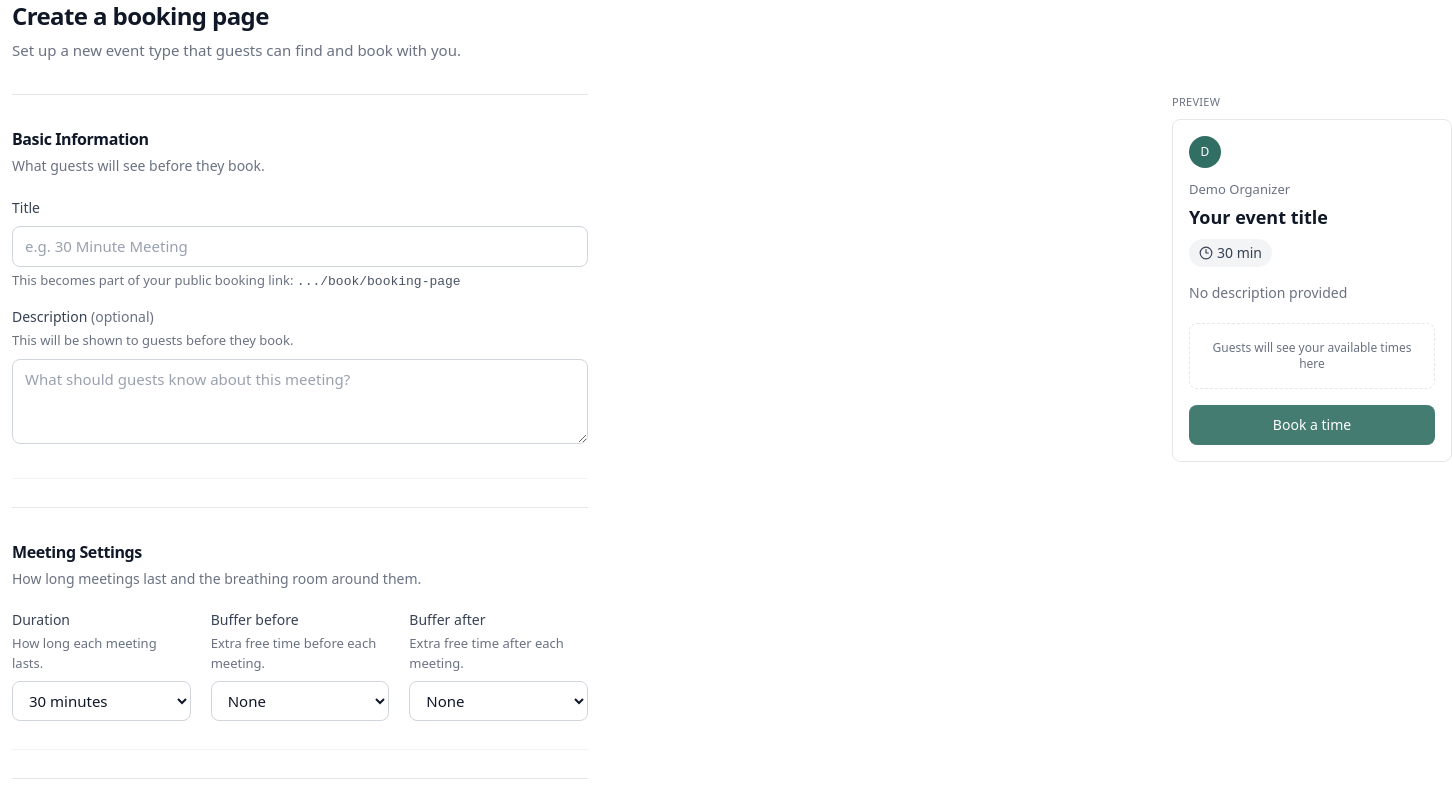
it: CreateBookingPagePage › reports a failed creation instead of navigating
The image size is (1452, 810).
In the field labelled "Title": (300, 246) [12,226,588,267], type "Discovery call"
(page scrolled)
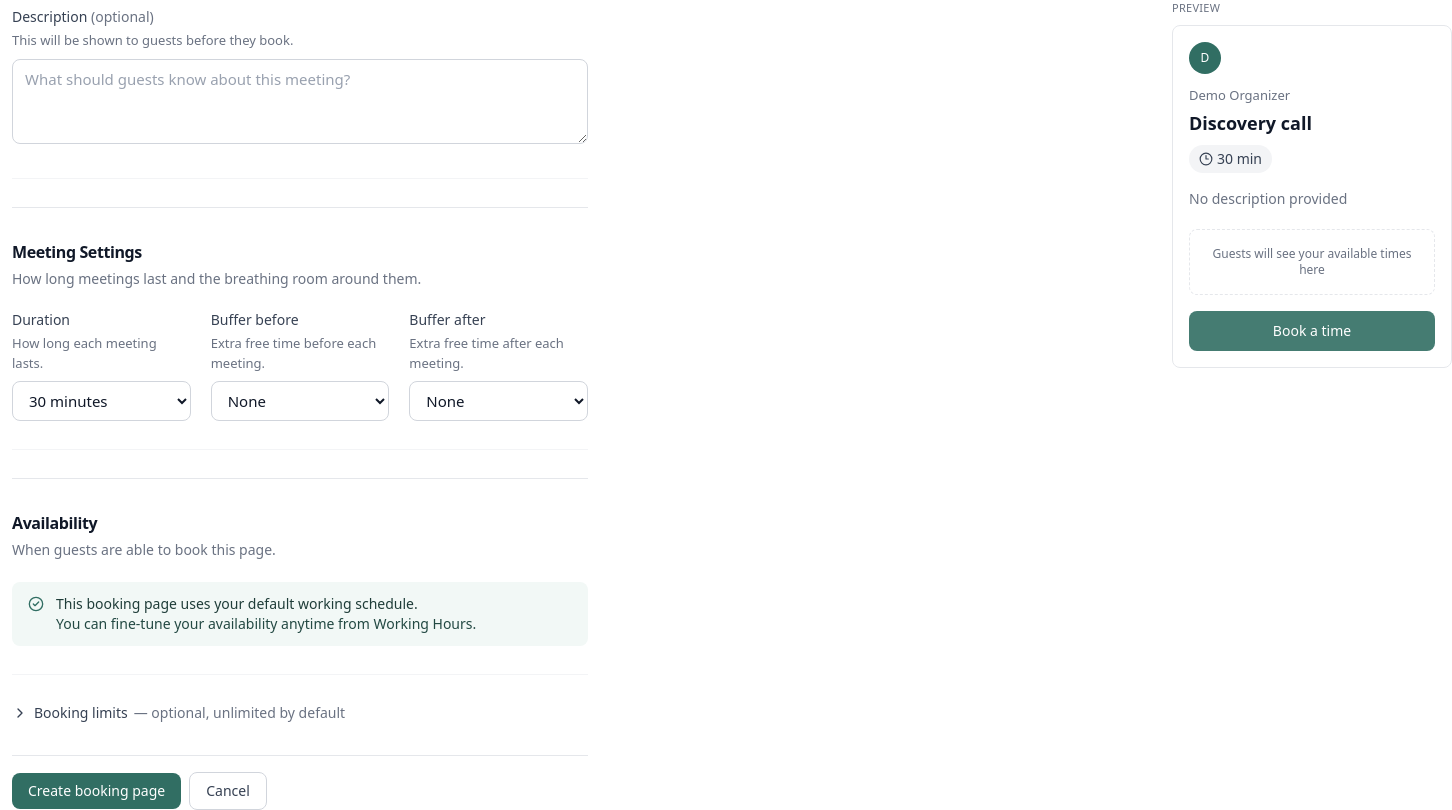
Click the button "Create booking page": (97, 791) [12,773,181,809]
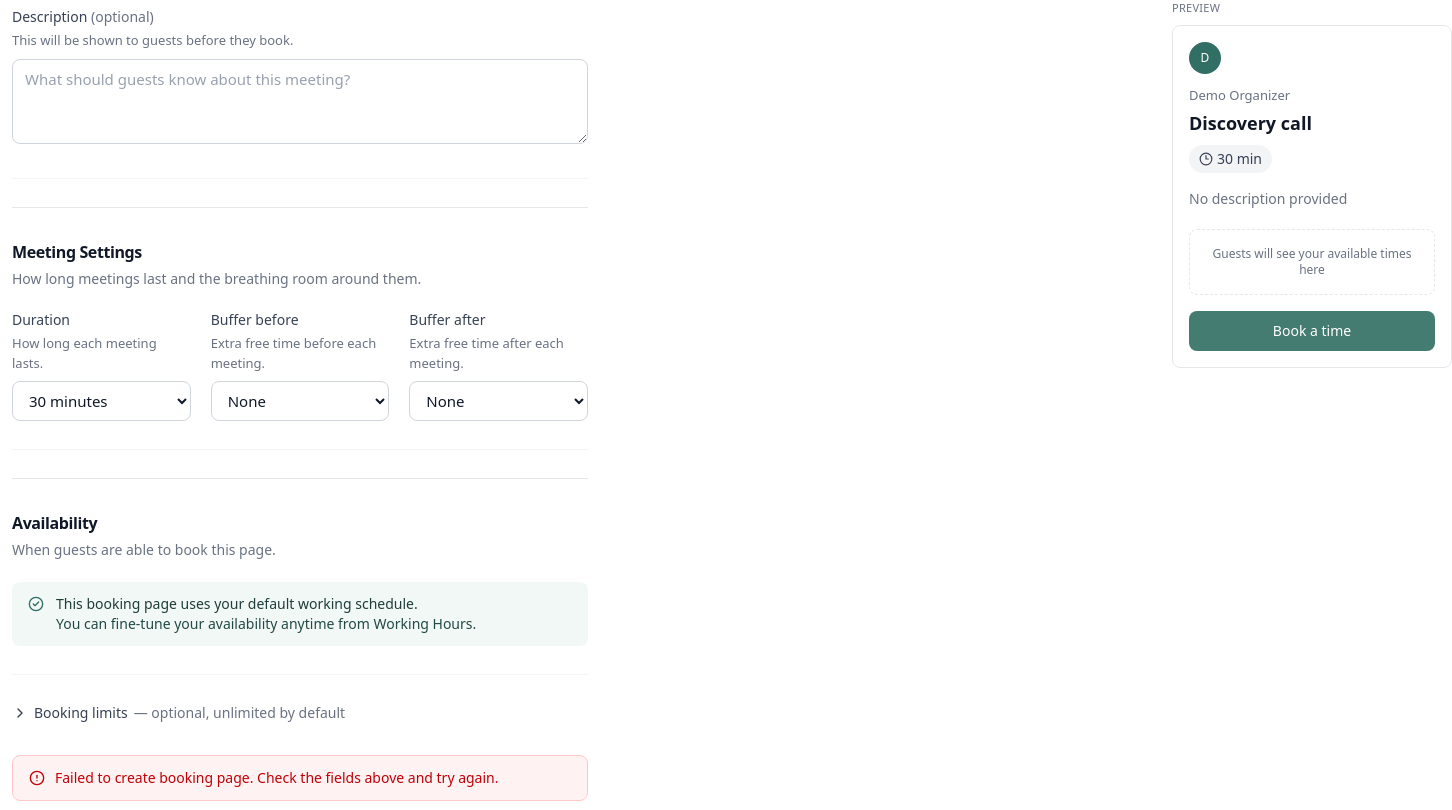
Now the message shows "Failed to create", box [55,768,498,787]
